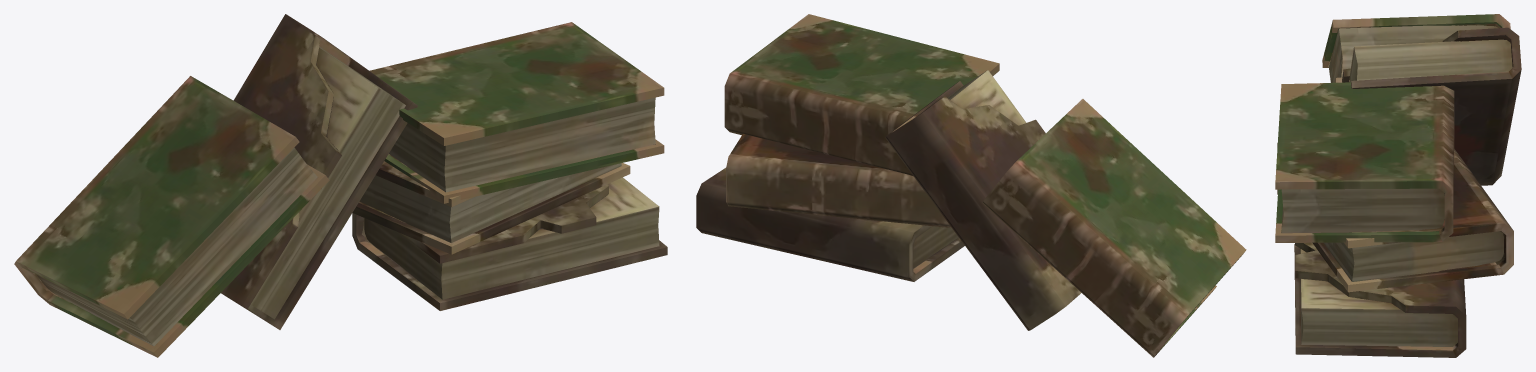
3 renders of one model, left to right at view 1: azimuth 30°, elevation 25°; view 2: azimuth 150°, elevation 25°; view 3: azimuth 270°, elevation 25°, orthographic. The views are drawn at different scales.
Parts seen in each view (by area): view 1: SM_DR_BookStack_02_LOD0; view 2: SM_DR_BookStack_02_LOD0; view 3: SM_DR_BookStack_02_LOD0.
Boxes of the visible parts, x1,y1,x2,y2 form: SM_DR_BookStack_02_LOD0: [14, 14, 667, 357]; SM_DR_BookStack_02_LOD0: [696, 14, 1246, 357]; SM_DR_BookStack_02_LOD0: [1275, 14, 1521, 357].
Bounding box in the file's own units: 0.9425 × 0.3625 × 0.3885.
1 material, 1 textured.
